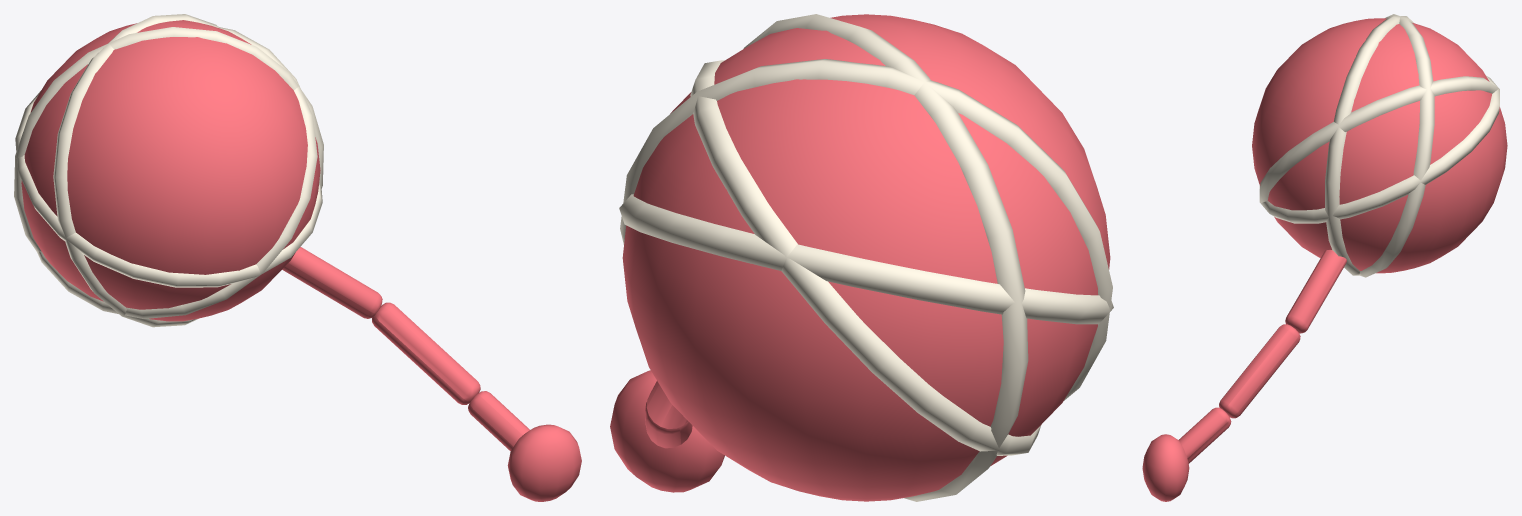
The model's file is GardenYarnBallBall_Premium.fbx.
3 renders of one model, left to right at view 1: azimuth 30°, elevation 25°; view 2: azimuth 150°, elevation 25°; view 3: azimuth 270°, elevation 25°, orthographic. The views are drawn at different scales.
Visible parts, largest first — view 1: GardenYarnBallBall; view 2: GardenYarnBallBall; view 3: GardenYarnBallBall.
Boxes of the visible parts, <box> form: GardenYarnBallBall: <box>14,14,581,501</box>; GardenYarnBallBall: <box>610,14,1113,501</box>; GardenYarnBallBall: <box>1142,14,1507,501</box>.
Bounding box in the file's own units: 0.3139 × 0.3139 × 0.28.
